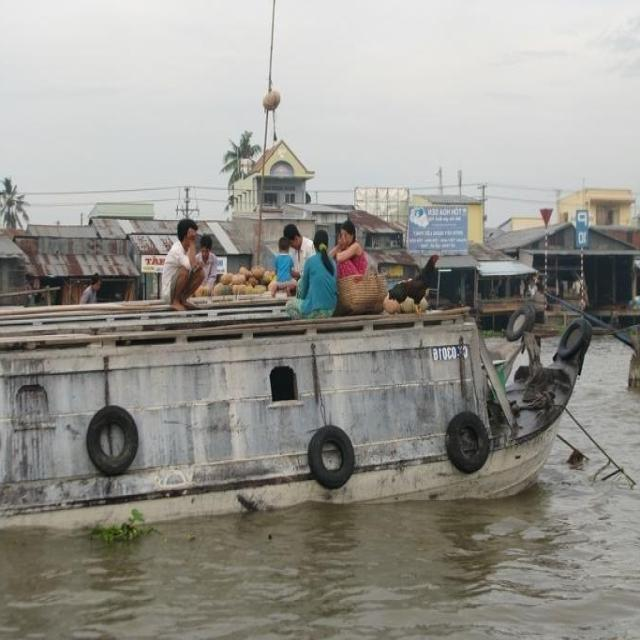Hyacinth: (66, 513, 162, 550)
boat: (0, 300, 587, 533)
